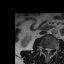CCS_normal: (47, 46, 49, 56)
LFS_severe_stenosis: (52, 46, 53, 52)
LLS_stenosis: (49, 47, 51, 53)
RFS_severe_stenosis: (43, 46, 45, 51)
RLS_stenosis: (45, 46, 47, 52)
